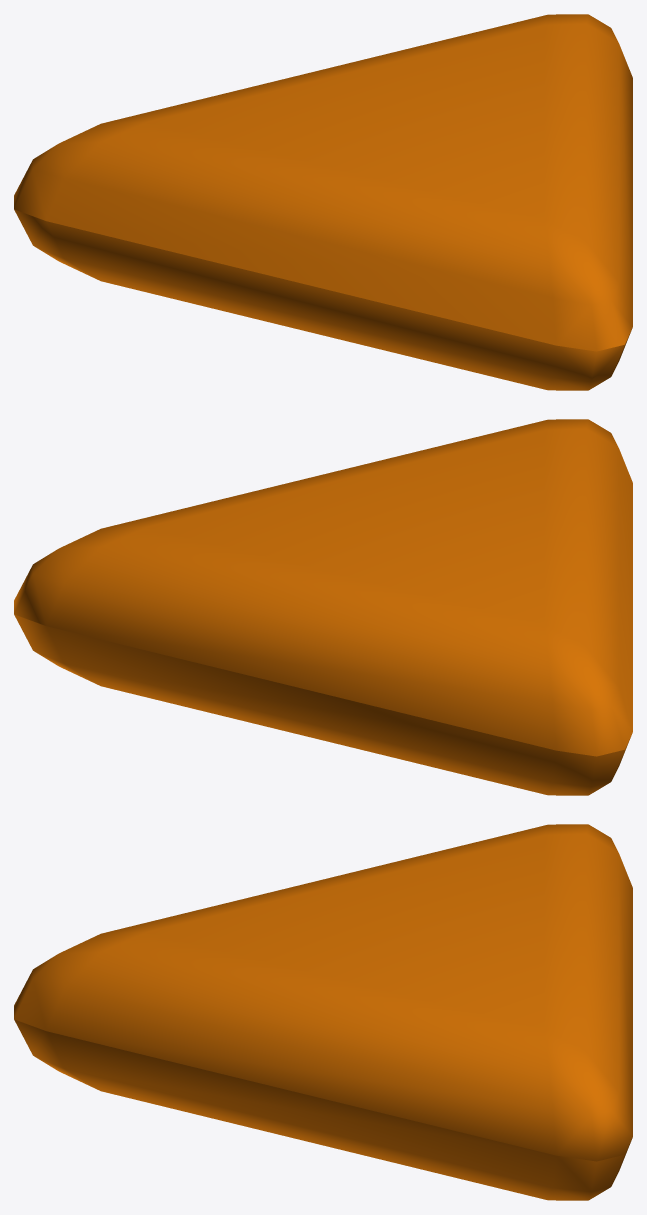
Rendered from triangulo laranja.fbx.
The picture shows the model from 3 angles, top to bottom: view 1: azimuth 30°, elevation 25°; view 2: azimuth 150°, elevation 25°; view 3: azimuth 270°, elevation 25°; orthographic projection.
Parts seen in each view (by area): view 1: Cylinder.009; view 2: Cylinder.009; view 3: Cylinder.009.
Boxes of the visible parts, x1,y1,x2,y2 form: Cylinder.009: [14, 14, 632, 390]; Cylinder.009: [14, 419, 632, 795]; Cylinder.009: [14, 824, 632, 1200].
Size of the model in its own units: 0.3191 by 0.08 by 0.28.
